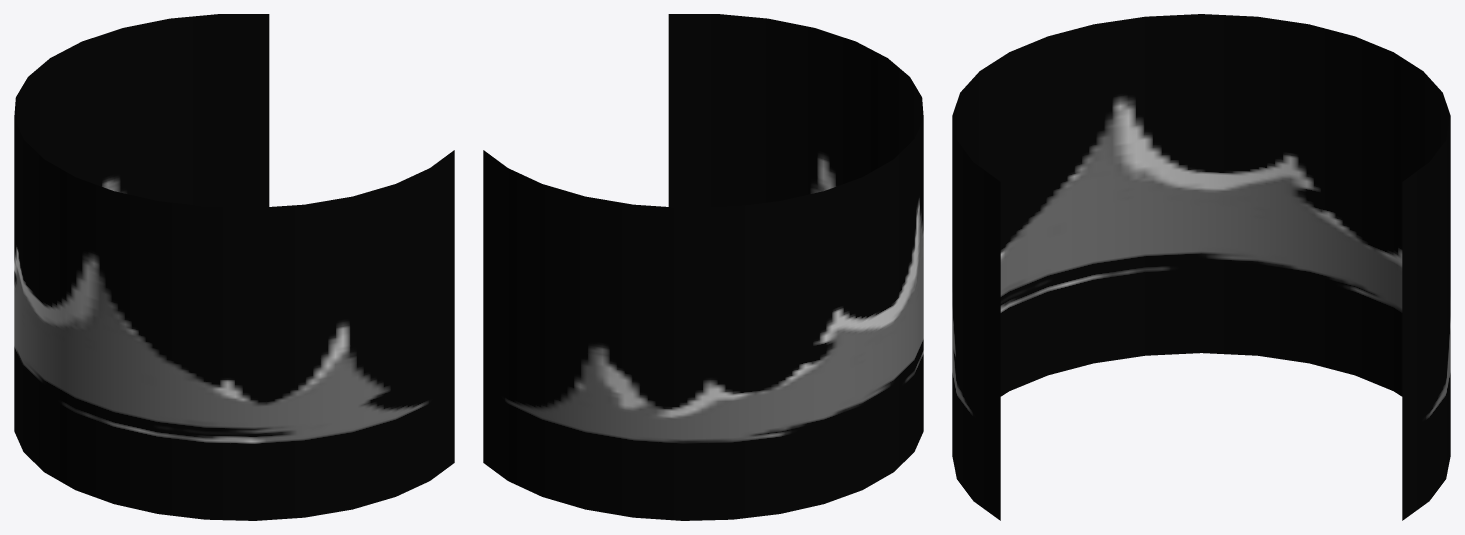
Rendered from ring_05.FBX.
3 views of the same model, side by side, from view 1: azimuth 30°, elevation 25°; view 2: azimuth 150°, elevation 25°; view 3: azimuth 270°, elevation 25° (orthographic). The views are drawn at different scales.
Parts seen in each view (by area): view 1: ring_05; view 2: ring_05; view 3: ring_05.
Boxes of the visible parts, x1,y1,x2,y2 form: ring_05: (14, 14, 454, 520); ring_05: (483, 14, 923, 520); ring_05: (952, 14, 1450, 520).
Size of the model in its own units: 3.19 by 3 by 4.
